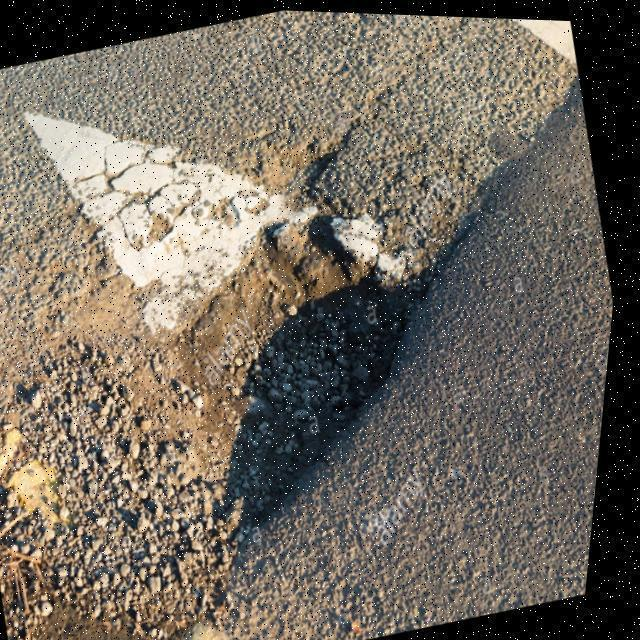Pothole: (177, 224, 410, 526)
